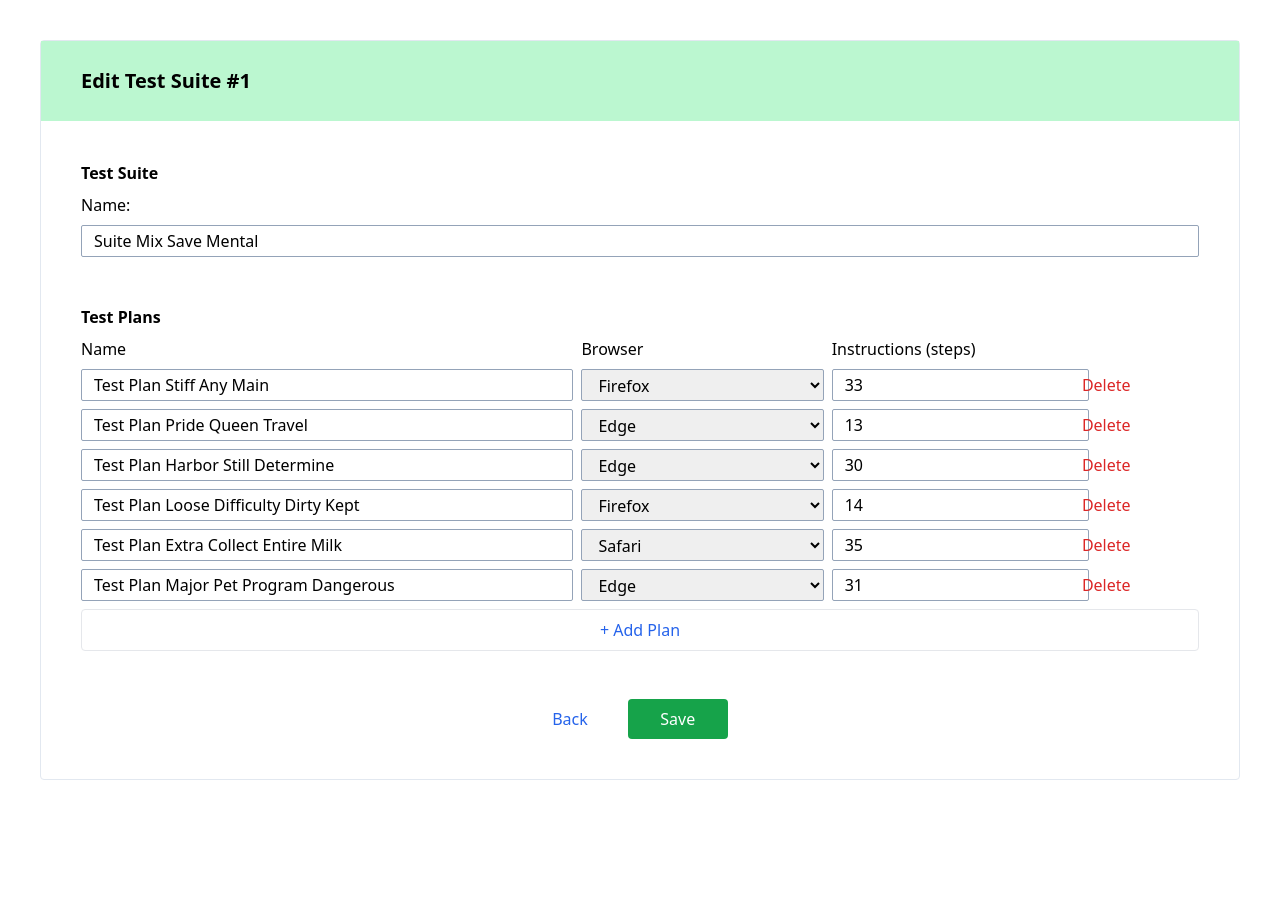
TestSuiteEdit Component › allows delete a plan from the plan list
This screenshot has width=1280, height=900.
Expected: the number of elements with test id "edit-form-test-plan" is 6, [81, 369, 1199, 401]; [81, 409, 1199, 441]; [81, 449, 1199, 481]; [81, 489, 1199, 521]; [81, 529, 1199, 561]; [81, 569, 1199, 601]
Expected: the 1st field with test id "edit-plan-name-input" is not empty, [81, 369, 573, 401]
Click the 2nd button with test id "edit-plan-delete". click: click(1106, 425)
box: [1082, 409, 1131, 441]
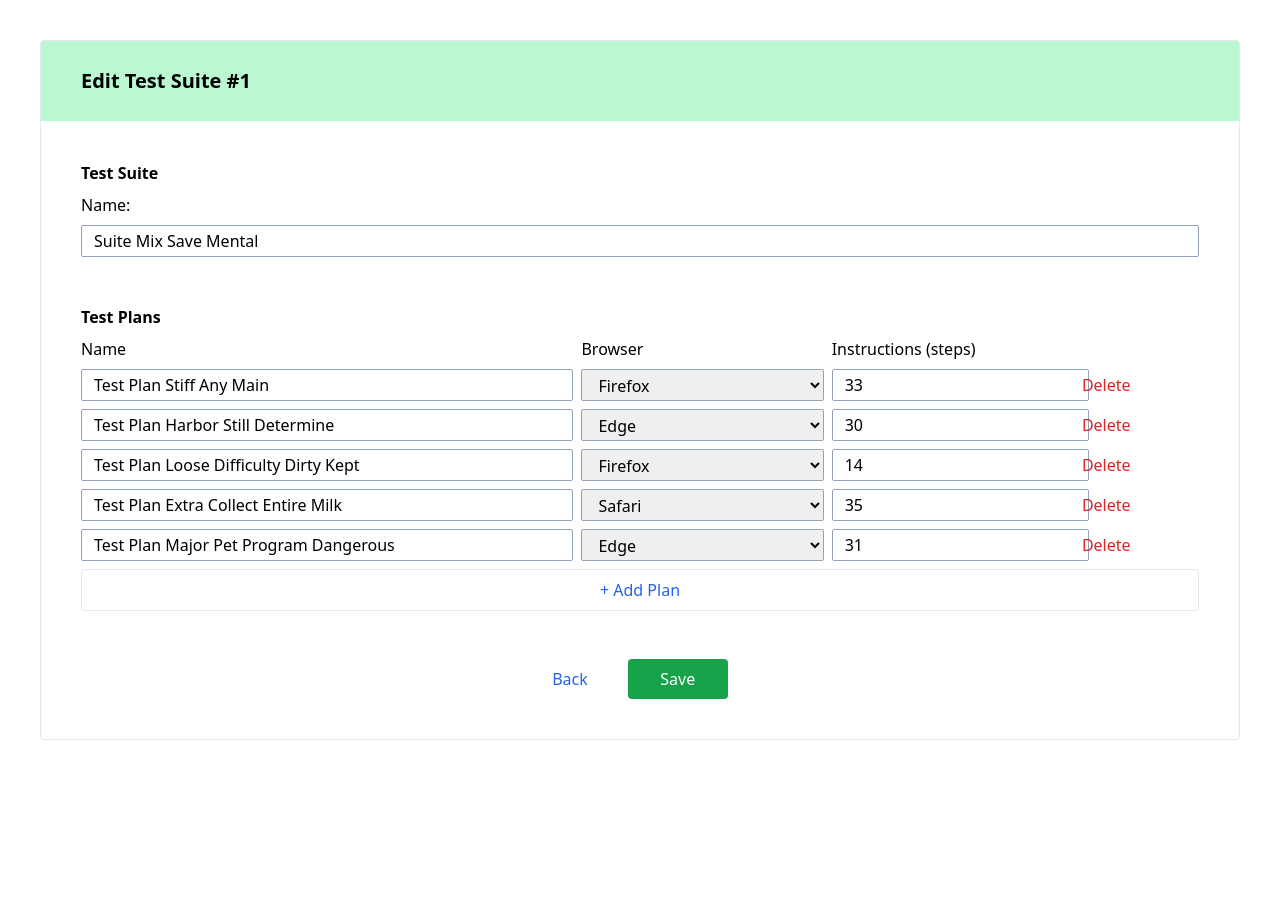
Expected: the 1st field with test id "edit-plan-name-input" is not empty, [81, 369, 573, 401]
Expected: the number of elements with test id "edit-form-test-plan" is 5, [81, 369, 1199, 401]; [81, 409, 1199, 441]; [81, 449, 1199, 481]; [81, 489, 1199, 521]; [81, 529, 1199, 561]
